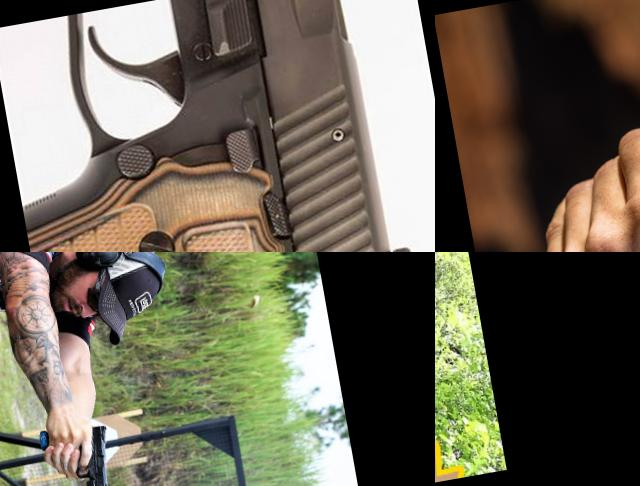handgun: (0, 0, 435, 252), (478, 0, 640, 252), (435, 296, 534, 480), (33, 417, 122, 486)
